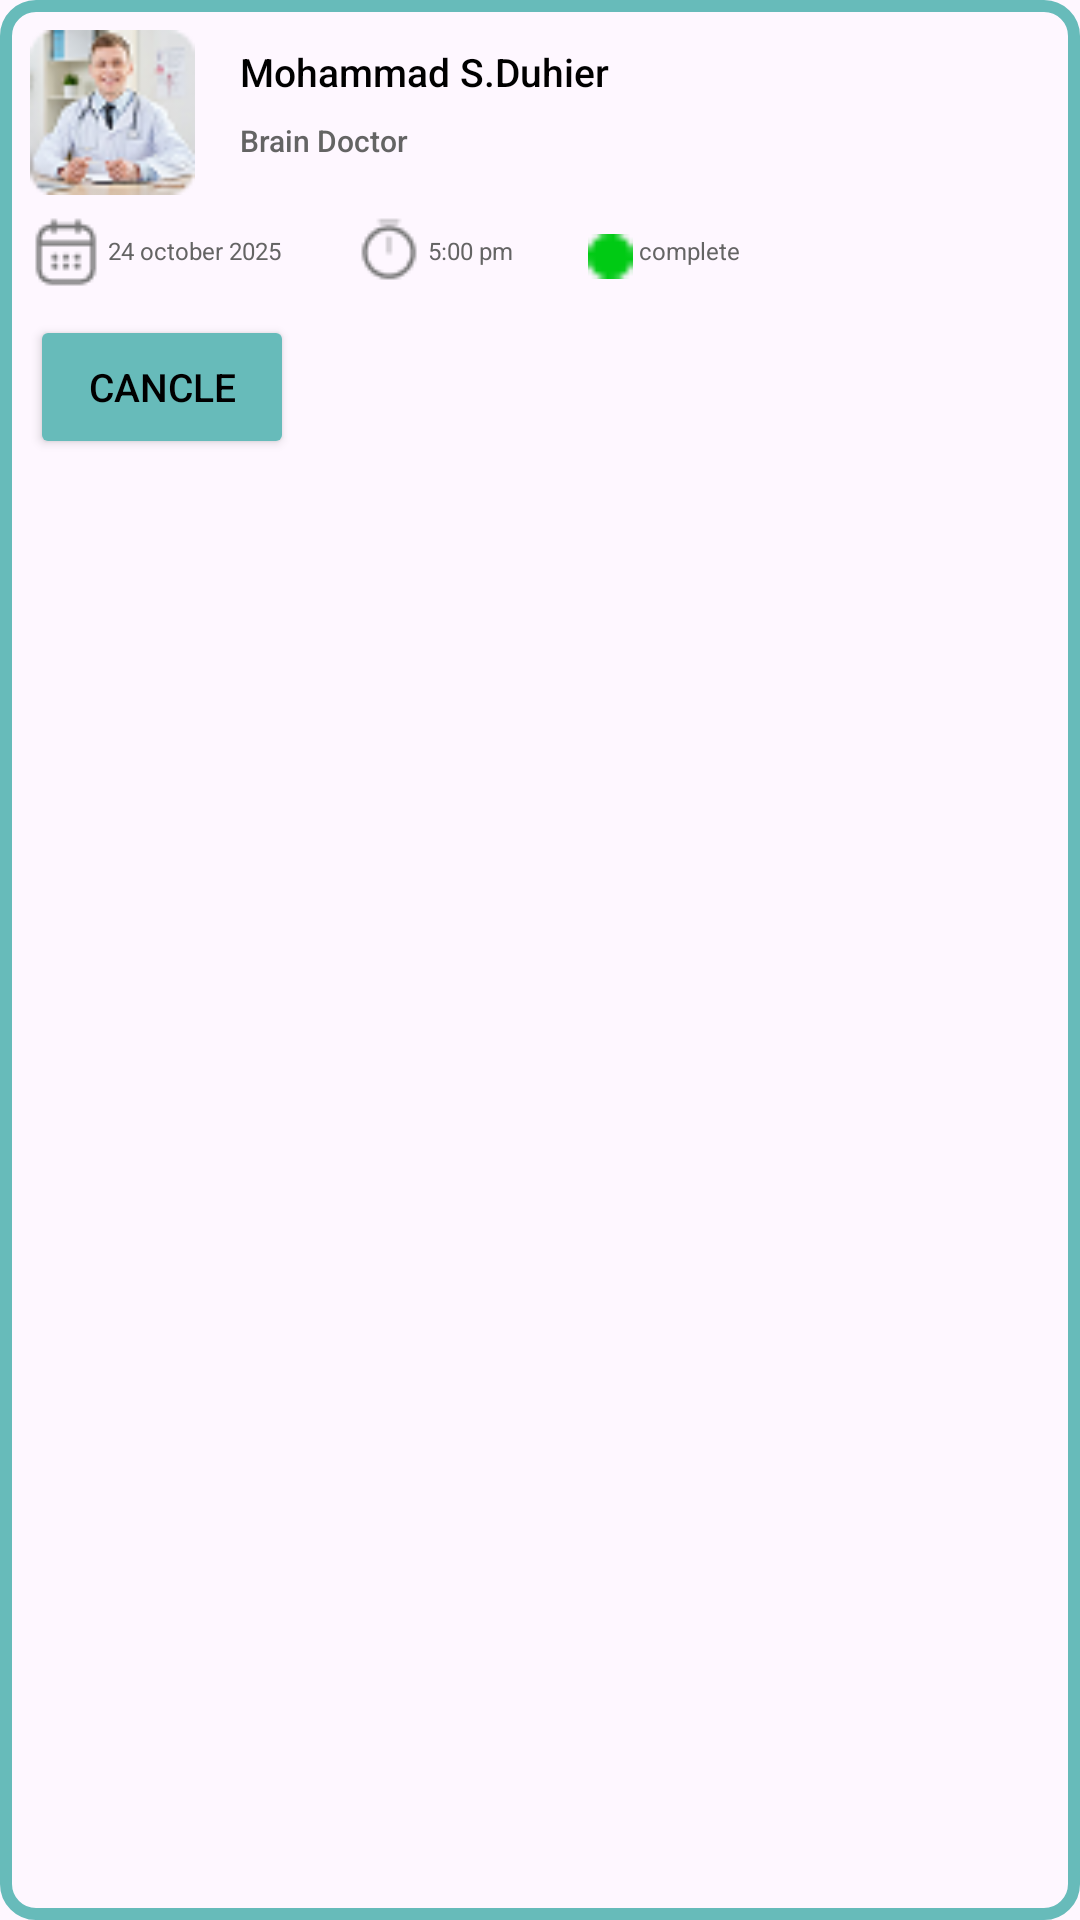

Screen size 1080px x 1920px. Icon name, then its box in pixels as (x1, y1, x2, y2):
calendar: (35, 219, 97, 286)
timer: (361, 219, 417, 280)
